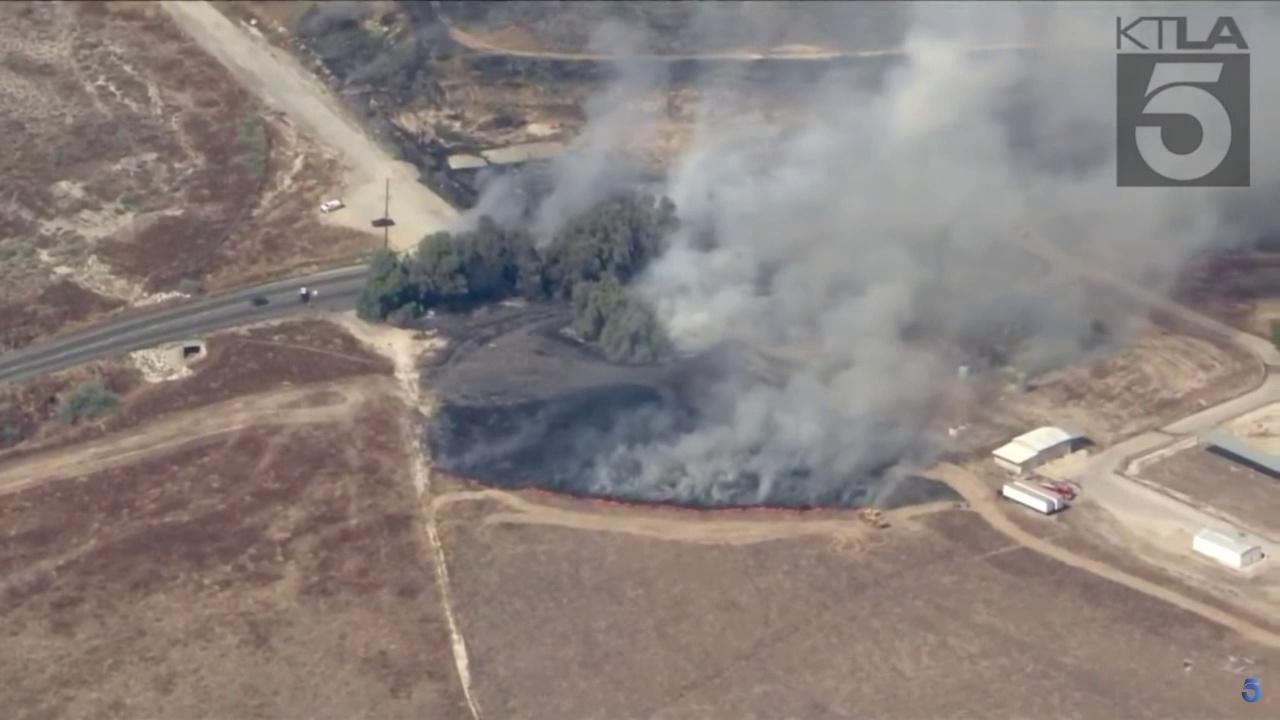fire: (718, 507, 823, 513), (529, 484, 553, 497), (589, 498, 620, 506), (678, 507, 696, 513)
smoke: (296, 3, 1280, 510)
